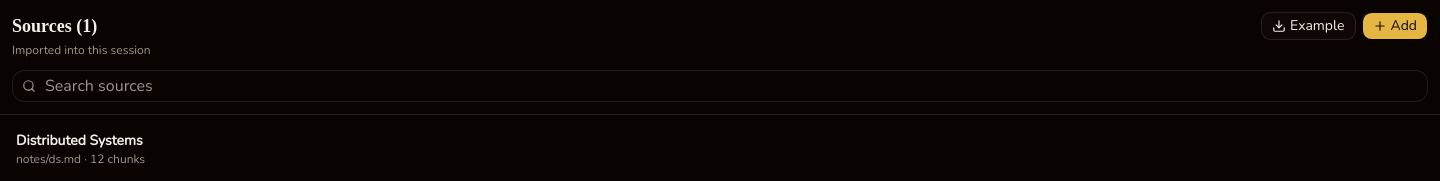
Test: StudySourcesPanel › shows a no-match message when the search matches nothing
The image size is (1440, 181).
Expected: the text "Distributed Systems" is shown, left=16, top=131, right=143, bottom=150
// When searching for something that matches nothing
Type "nonexistent" into the field with placeholder "Search sources" at (720, 86), box left=12, top=70, right=1428, bottom=102
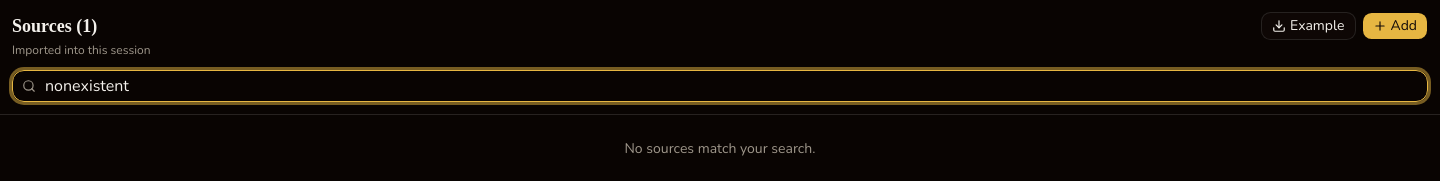
Expected: the text "No sources match your search." is shown, left=624, top=139, right=816, bottom=158
